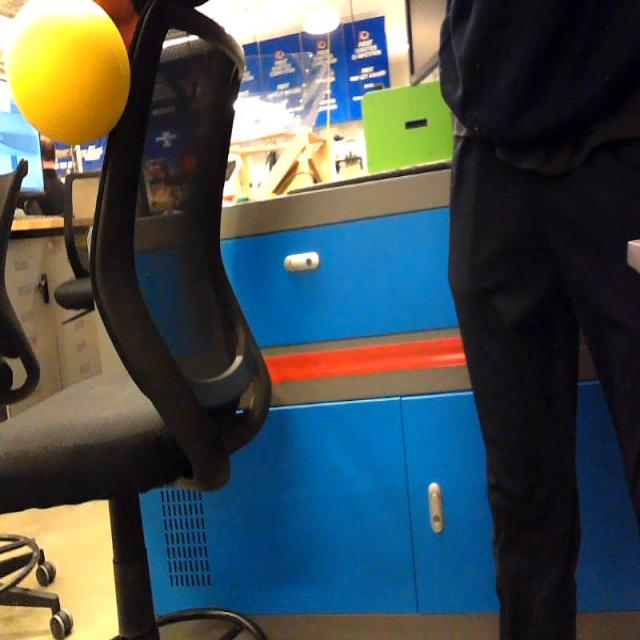Fuel: (4, 0, 130, 145)
